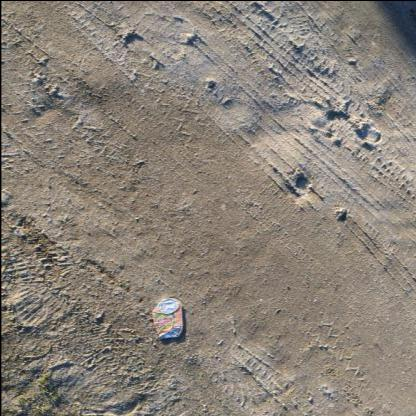Can: (150, 297, 181, 337)
Pop tab: (168, 329, 177, 336)
